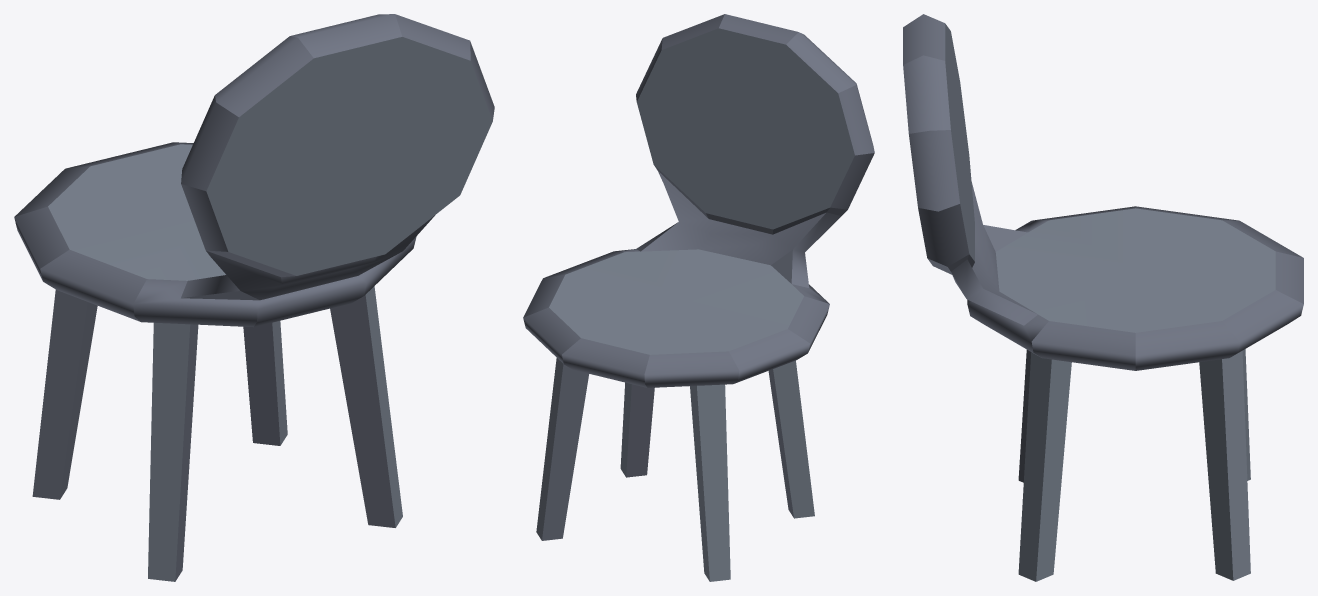
File: chair.fbx
The picture shows the model from 3 angles, left to right: view 1: azimuth 30°, elevation 25°; view 2: azimuth 150°, elevation 25°; view 3: azimuth 270°, elevation 25°; orthographic projection. The views are drawn at different scales.
Parts seen in each view (by area): view 1: chair; view 2: chair; view 3: chair.
Part boxes in pixels (x1,y1,x2,y2): chair: (14, 14, 494, 581); chair: (523, 14, 874, 581); chair: (903, 14, 1303, 581).
Bounding box in the file's own units: 1.01 × 1.56 × 1.14.
